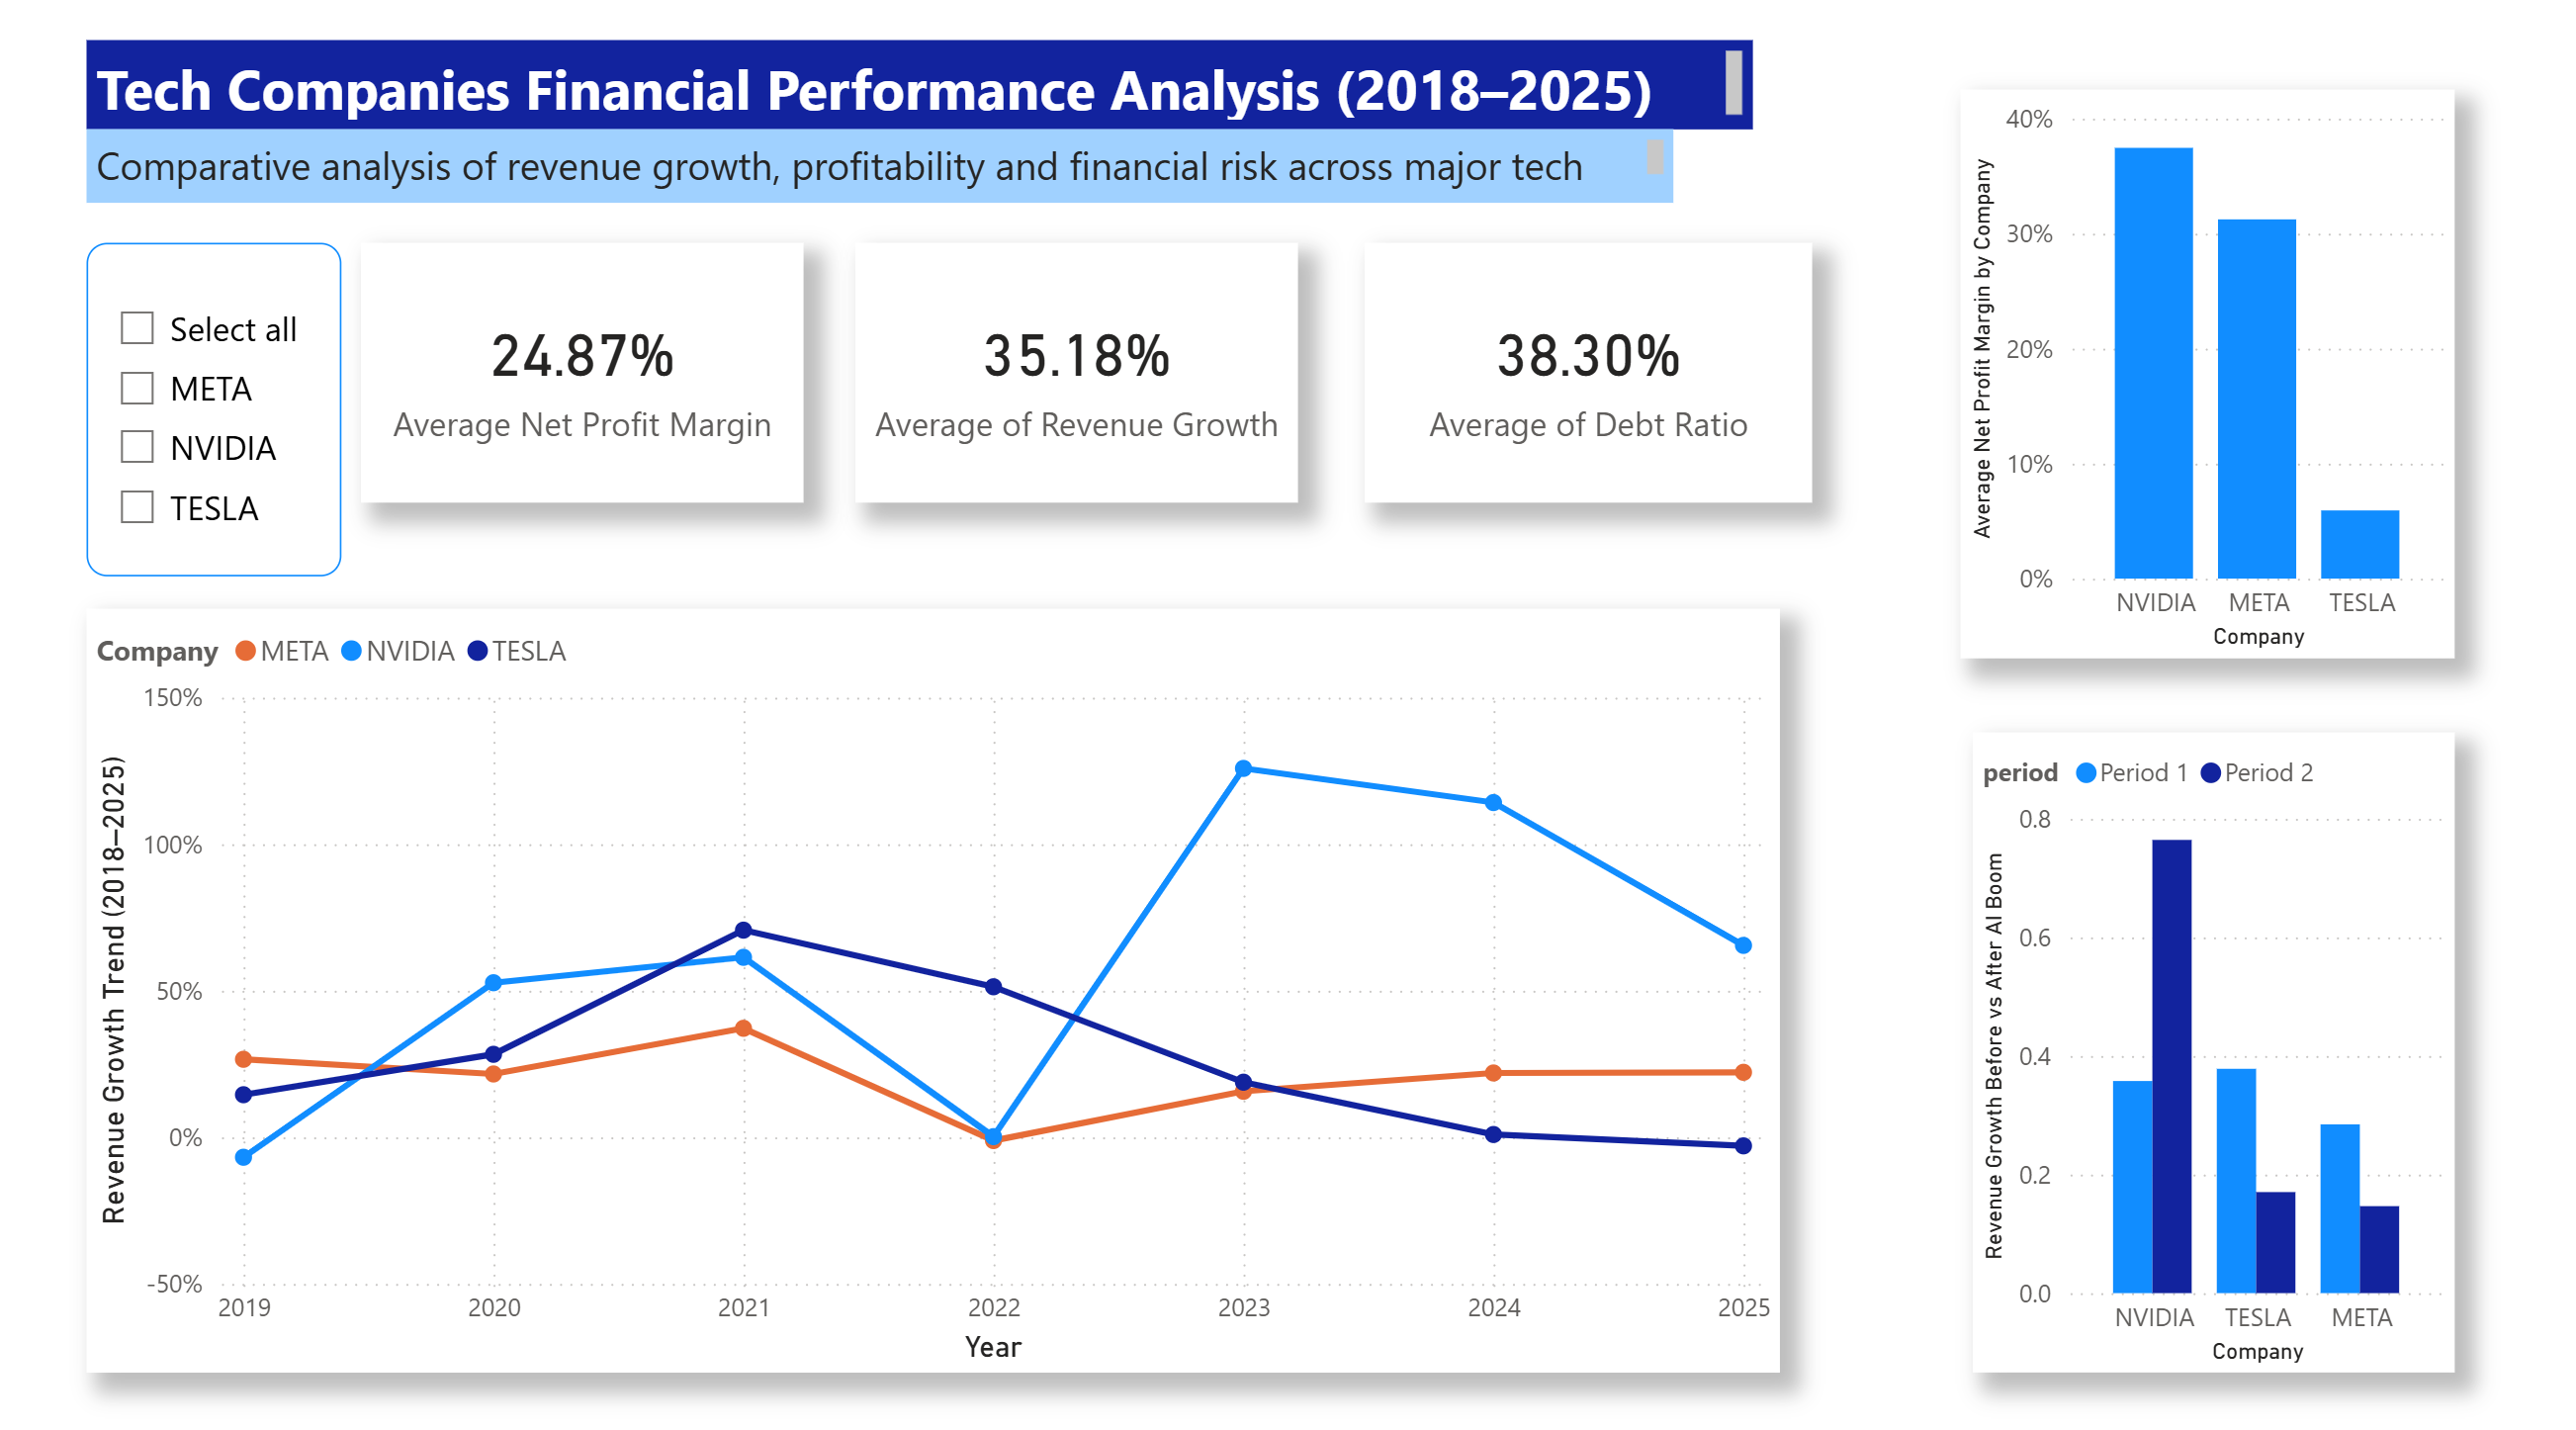

What the dashboard file says about the page in this screenshot:
{"tool":"powerbi","page":{"name":"Page 1","canvas":[1280,720],"ordinal":0},"visuals":[{"type":"slicer","fields":{"Values":["tech_financials_dataset.company"]},"box":[59.1,138.7,124.3,162.9],"z":0},{"type":"card","fields":{"Values":["Avg(tech_financials_dataset.net_margin)"]},"box":[193,138.7,216,126.7],"z":1000},{"type":"card","fields":{"Values":["Avg(tech_financials_dataset.revenue_growth)"]},"box":[434.3,138.7,216,126.7],"z":2000},{"type":"card","fields":{"Values":["Avg(tech_financials_dataset.debt_ratio)"]},"box":[682.8,138.7,218.4,126.7],"z":3000},{"type":"lineChart","fields":{"Category":["tech_financials_dataset.year"],"Series":["tech_financials_dataset.company"],"Y":["Sum(tech_financials_dataset.revenue_growth)"]},"box":[59.1,317.3,826.4,372.8],"z":4000},{"type":"clusteredColumnChart","fields":{"Category":["tech_financials_dataset.company"],"Y":["Avg(tech_financials_dataset.net_margin)"]},"box":[973.6,63.9,241.3,277.5],"z":5000},{"type":"clusteredColumnChart","fields":{"Category":["tech_financials_dataset.company"],"Series":["tech_financials_dataset.period"],"Y":["Avg(tech_financials_dataset.revenue_growth)"]},"box":[979.6,377.6,235.3,312.5],"z":6000},{"type":"textbox","box":[59.1,39.8,813.1,43.4],"z":7000},{"type":"textbox","box":[59.1,83.2,774.5,36.2],"z":8000}]}

Visuals, with their boxes in screenshot pixels (x1, y1, x2, y2), scaled from the page's 1280x720 canvas onto the 2576x1430 screenshot:
slicer - tech_financials_dataset.company: [x1=119, y1=276, x2=369, y2=599]
card - Avg(tech_financials_dataset.net_margin): [x1=389, y1=276, x2=823, y2=527]
card - Avg(tech_financials_dataset.revenue_growth): [x1=874, y1=276, x2=1308, y2=527]
card - Avg(tech_financials_dataset.debt_ratio): [x1=1375, y1=276, x2=1814, y2=527]
lineChart - tech_financials_dataset.year x tech_financials_dataset.company: [x1=119, y1=630, x2=1782, y2=1371]
clusteredColumnChart - tech_financials_dataset.company x Avg(tech_financials_dataset.net_margin): [x1=1959, y1=127, x2=2445, y2=678]
clusteredColumnChart - tech_financials_dataset.company x tech_financials_dataset.period: [x1=1972, y1=750, x2=2445, y2=1371]
textbox: [x1=119, y1=79, x2=1755, y2=165]
textbox: [x1=119, y1=165, x2=1678, y2=237]
